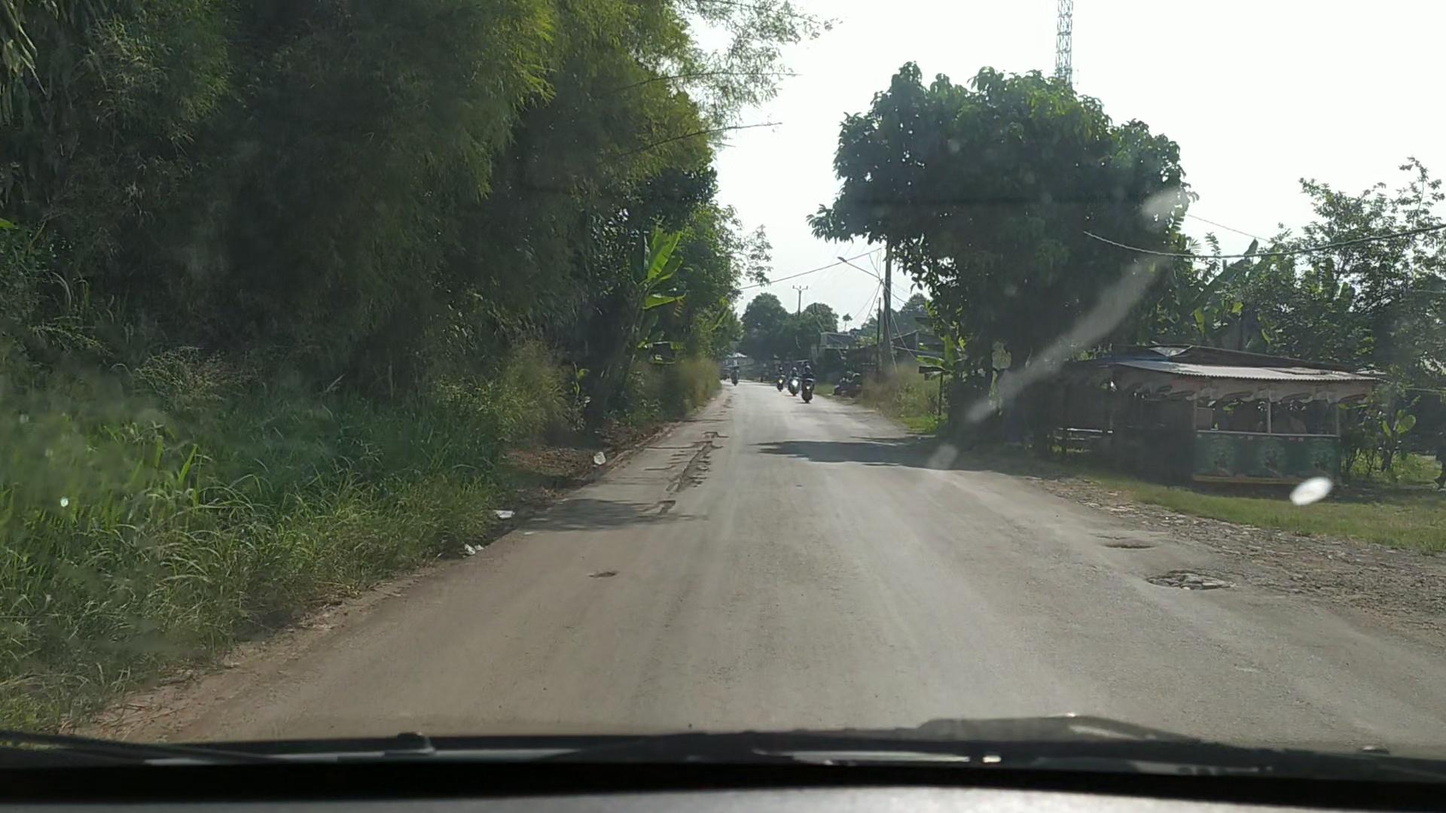pothole: (660, 428, 727, 496), (1144, 568, 1230, 591), (1106, 541, 1159, 551)
